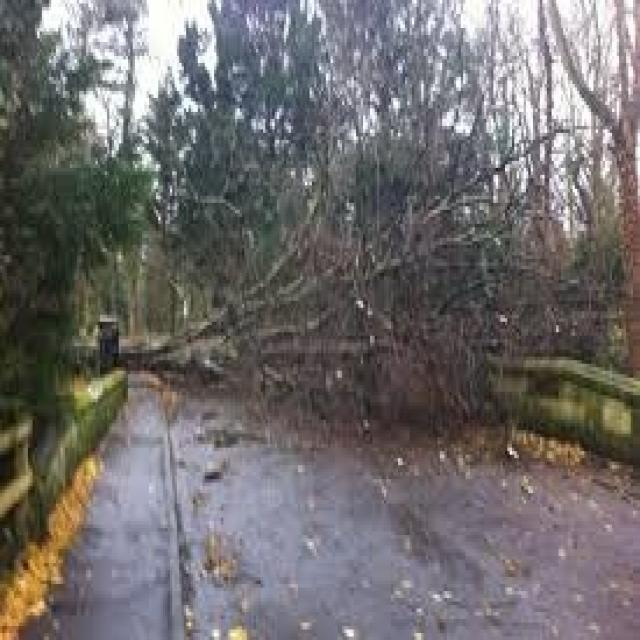fallen_object: (99, 246, 504, 400)
